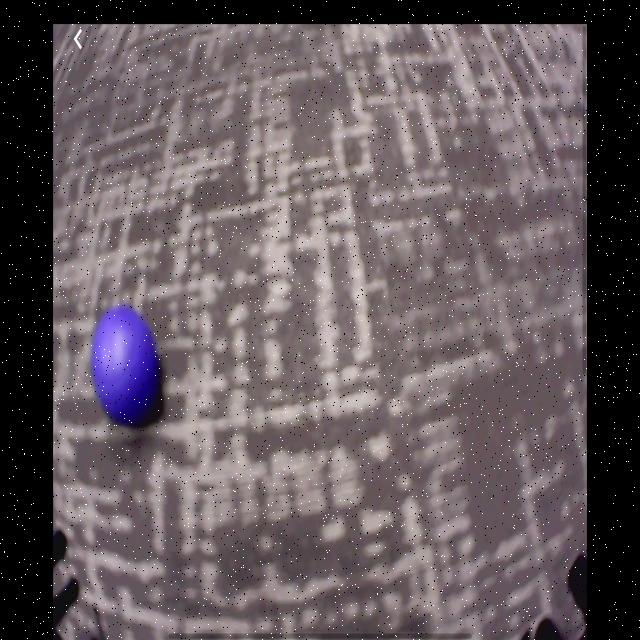ball: (91, 307, 163, 423)
